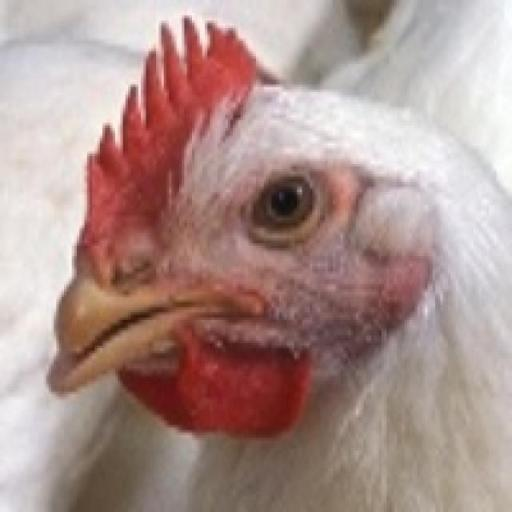healthy: (172, 126, 364, 272)
